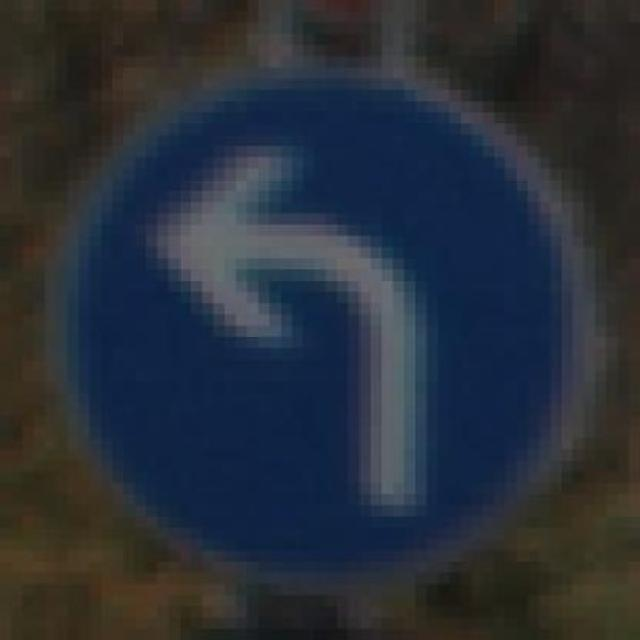Turn left ahead: (56, 64, 596, 581)
